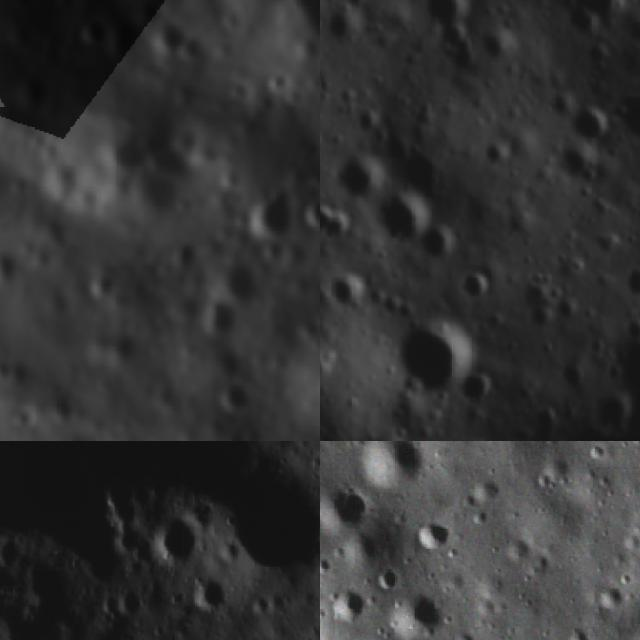crater: (200, 465, 320, 591), (394, 314, 484, 392), (342, 441, 435, 491), (144, 513, 200, 572), (320, 468, 370, 534), (375, 192, 437, 244), (394, 582, 449, 640), (245, 182, 296, 242), (332, 150, 389, 203), (405, 514, 462, 554), (220, 260, 270, 304), (320, 344, 351, 411), (560, 0, 629, 30), (197, 296, 239, 340), (328, 584, 375, 622), (456, 365, 498, 407), (418, 224, 460, 266), (191, 568, 227, 617), (215, 371, 256, 414), (570, 104, 611, 146), (344, 520, 384, 563), (71, 11, 110, 51), (613, 88, 640, 142), (421, 0, 472, 28), (89, 585, 123, 623), (459, 270, 496, 304), (0, 536, 33, 573), (372, 557, 405, 592), (114, 585, 144, 622), (298, 194, 320, 230), (622, 265, 640, 303), (247, 593, 271, 621)
